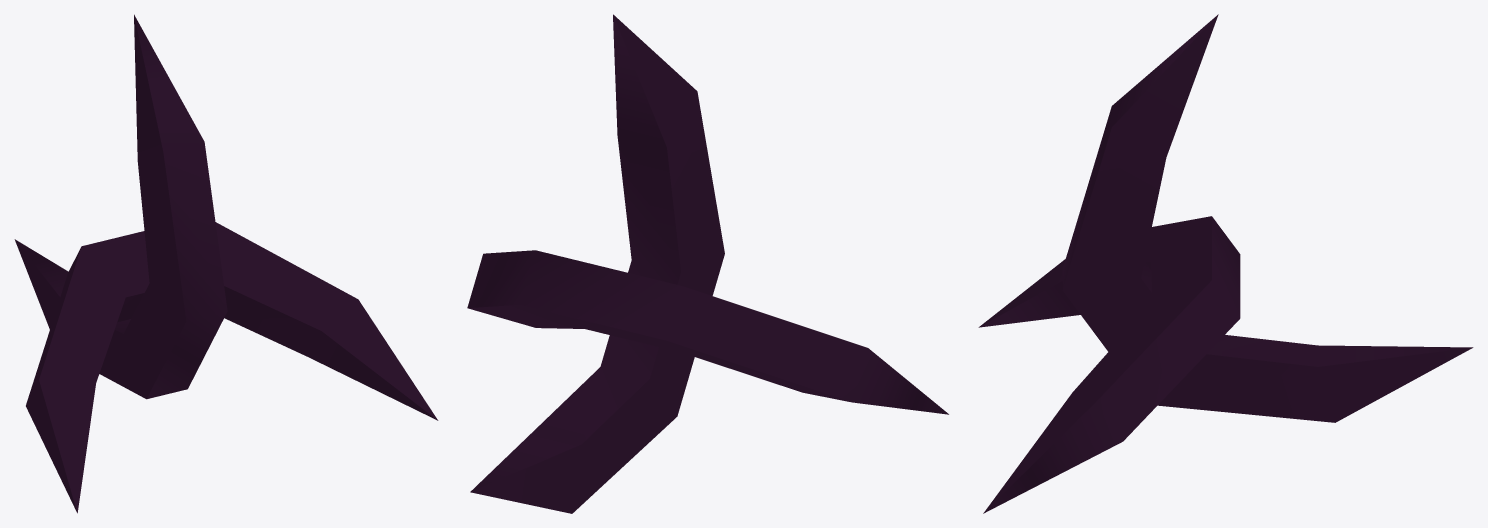
The model's file is caltrop.glb.
3 views of the same model, side by side, from view 1: azimuth 30°, elevation 25°; view 2: azimuth 150°, elevation 25°; view 3: azimuth 270°, elevation 25° (orthographic). The views are drawn at different scales.
Visible parts, largest first — view 1: caltrop; view 2: caltrop; view 3: caltrop.
Part boxes in pixels (x1,y1,x2,y2): caltrop: (14,14,438,513); caltrop: (467,14,948,513); caltrop: (978,14,1473,513).
Bounding box in the file's own units: 11.78 × 11.66 × 13.04.
Materials: 1 (1 with a texture image).
